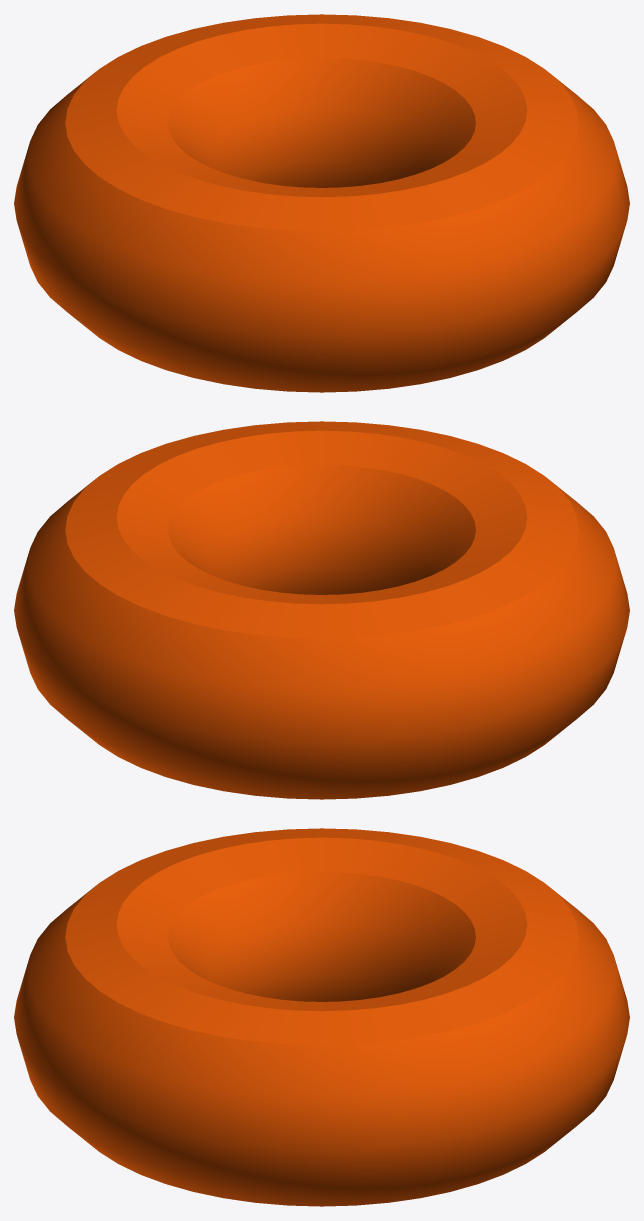
Rendered from floater.glb.
3 renders of one model, top to bottom at view 1: azimuth 30°, elevation 25°; view 2: azimuth 150°, elevation 25°; view 3: azimuth 270°, elevation 25°, orthographic.
Parts seen in each view (by area): view 1: Torus; view 2: Torus; view 3: Torus.
Boxes of the visible parts, x1,y1,x2,y2 form: Torus: [14, 14, 629, 392]; Torus: [14, 421, 629, 799]; Torus: [14, 828, 629, 1206].
Size of the model in its own units: 3 by 1 by 3.
